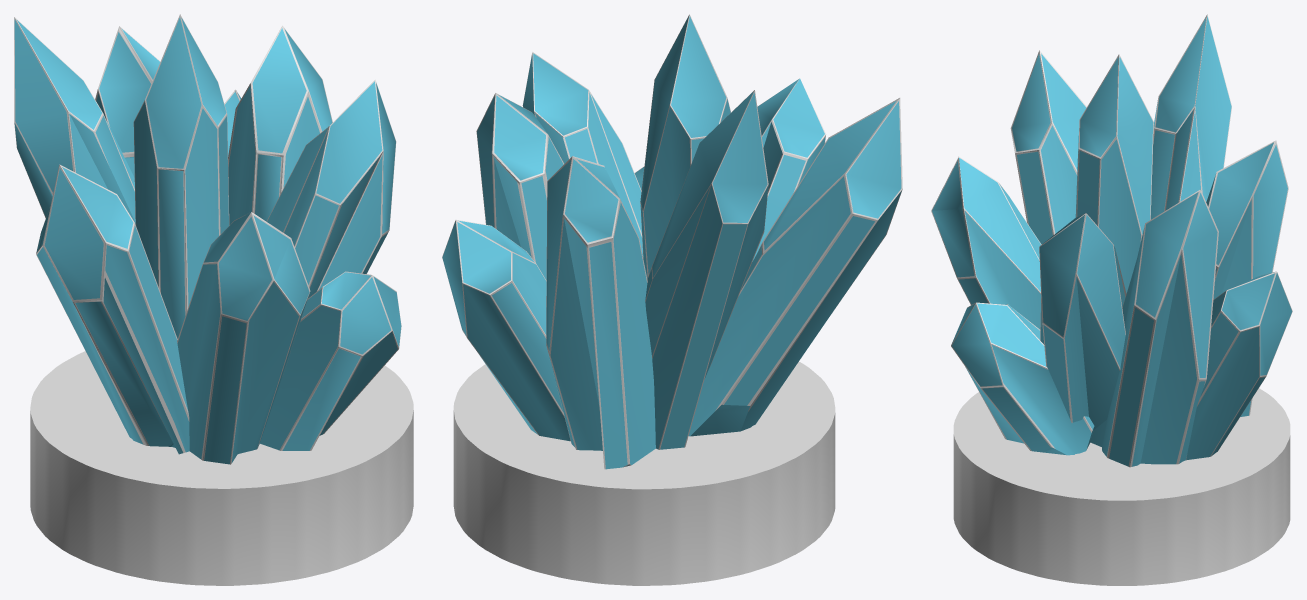
The model's file is Cristal_con_borde.fbx.
The picture shows the model from 3 angles, left to right: view 1: azimuth 30°, elevation 25°; view 2: azimuth 150°, elevation 25°; view 3: azimuth 270°, elevation 25°; orthographic projection. The views are drawn at different scales.
Visible parts, largest first — view 1: Cylinder, 8-Cristal, 1-Cristal, 6-Cristal, 5-Cristal, 7-Cristal, 4-Cristal, 9-Cristal, 3-Cristal; view 2: Cylinder, 8-Cristal, 3-Cristal, 4-Cristal, 2-Cristal, 6-Cristal, 9-Cristal, 5-Cristal, 1-Cristal; view 3: Cylinder, 9-Cristal, 5-Cristal, 7-Cristal, 6-Cristal, 1-Cristal, 4-Cristal, 2-Cristal, 8-Cristal, 3-Cristal.
Boxes of the visible parts, x1,y1,x2,y2 form: Cylinder: (30, 351, 413, 585); 8-Cristal: (36, 164, 189, 454); 1-Cristal: (177, 212, 310, 464); 6-Cristal: (133, 14, 229, 338); 5-Cristal: (266, 79, 396, 297); 7-Cristal: (260, 271, 401, 450); 4-Cristal: (14, 17, 135, 224); 9-Cristal: (228, 25, 332, 225); 3-Cristal: (95, 26, 160, 177); Cylinder: (453, 361, 835, 585); 8-Cristal: (688, 98, 902, 436); 3-Cristal: (546, 156, 655, 469); 4-Cristal: (645, 90, 768, 449); 2-Cristal: (442, 219, 570, 441); 6-Cristal: (640, 14, 730, 277); 9-Cristal: (476, 93, 563, 280); 5-Cristal: (522, 52, 643, 257); 1-Cristal: (752, 78, 825, 261); Cylinder: (953, 388, 1290, 585); 9-Cristal: (1090, 189, 1218, 467); 5-Cristal: (1039, 213, 1126, 429); 7-Cristal: (951, 302, 1094, 455); 6-Cristal: (1075, 54, 1153, 293); 1-Cristal: (931, 157, 1041, 329); 4-Cristal: (1150, 14, 1231, 219); 2-Cristal: (1186, 271, 1292, 460); 8-Cristal: (1010, 50, 1086, 244); 3-Cristal: (1206, 140, 1288, 416).
Size of the model in its own units: 1051 by 1311 by 972.
